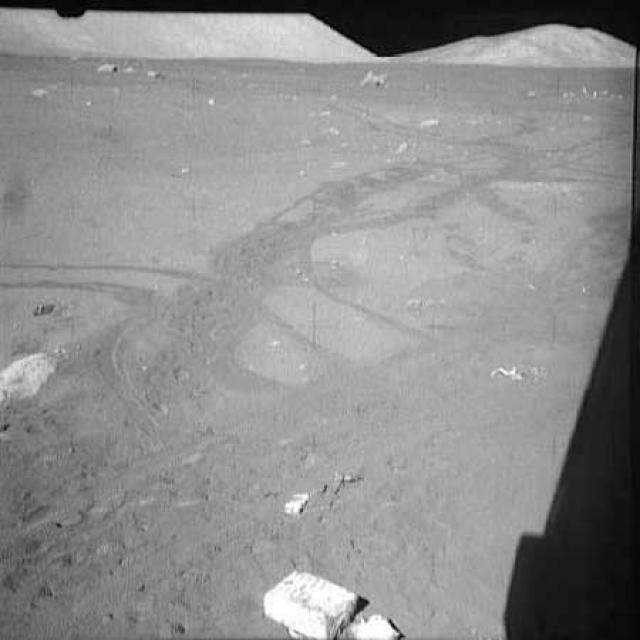artifact: (252, 556, 406, 639)
rock: (0, 346, 72, 402), (96, 54, 173, 82), (354, 61, 394, 91)
